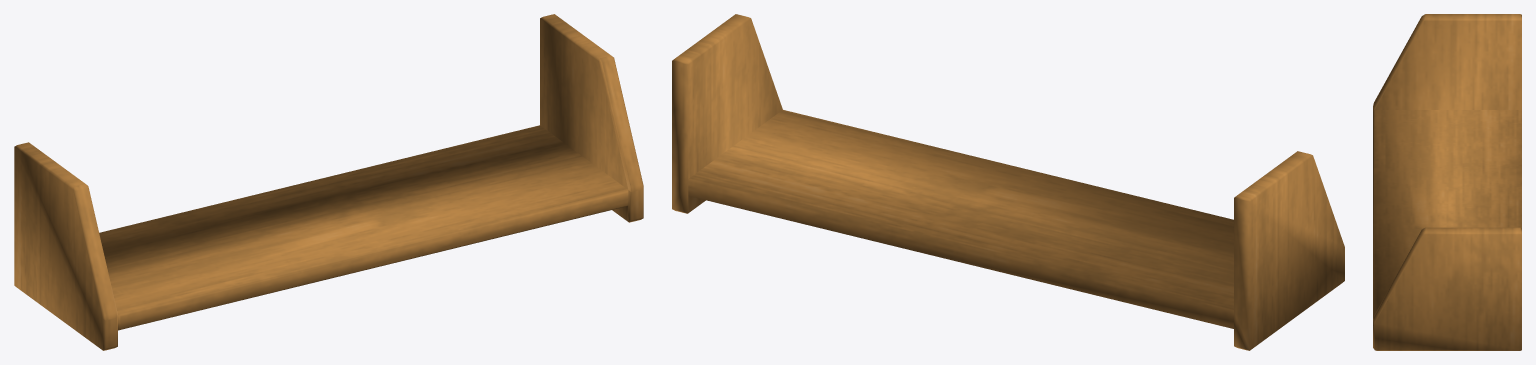
Rendered from smallshelf.obj.
The picture shows the model from 3 angles, left to right: view 1: azimuth 30°, elevation 25°; view 2: azimuth 150°, elevation 25°; view 3: azimuth 270°, elevation 25°; orthographic projection. The views are drawn at different scales.
Visible parts, largest first — view 1: Default; view 2: Default; view 3: Default.
Boxes of the visible parts, x1,y1,x2,y2 form: Default: [14, 14, 643, 350]; Default: [672, 14, 1344, 350]; Default: [1373, 14, 1521, 350].
Size of the model in its own units: 1.06 by 0.2671 by 0.3035.
Materials: 1 (1 with a texture image).
